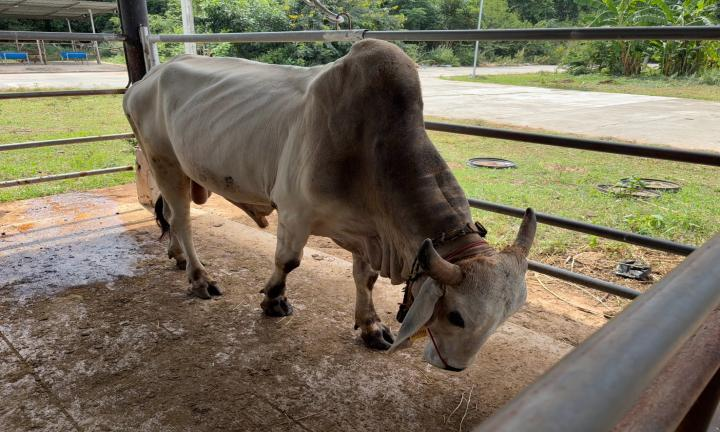Brahman: (123, 39, 535, 370)
